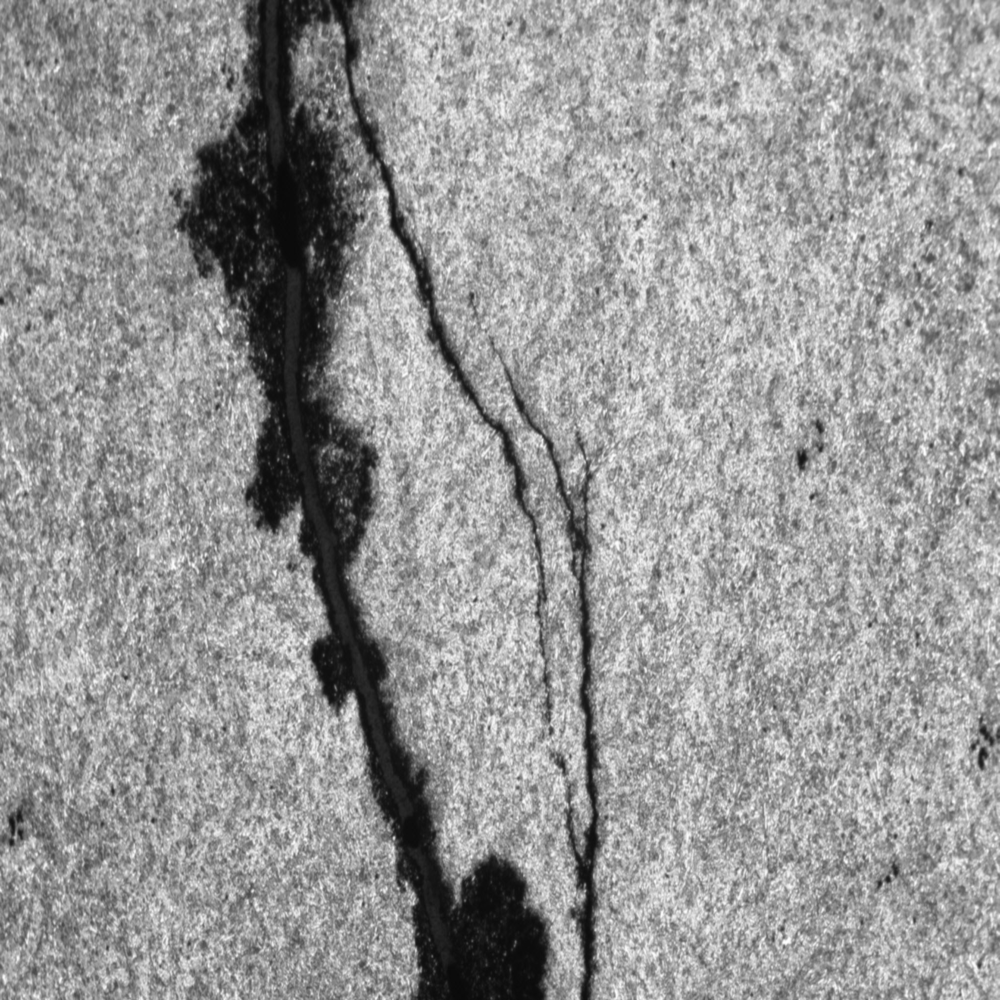crack: (166, 18, 660, 991)
